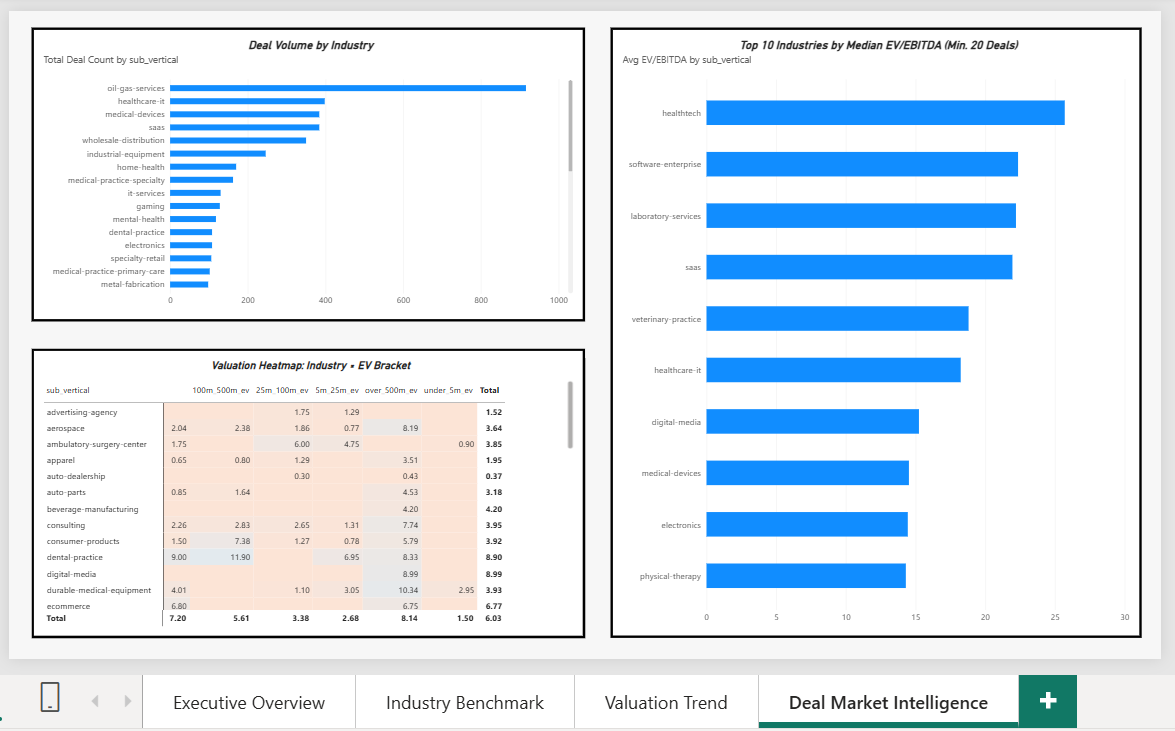

Layout of this report page (visuals, bound fields, positions):
{"tool":"powerbi","page":{"name":"Deal Market Intelligence","canvas":[1920,1080],"ordinal":3},"visuals":[{"type":"clusteredBarChart","title":"Deal Volume by Industry","fields":{"Category":["DimIndustry.sub_vertical"],"Y":["_Measures.Total Deal Count"]},"box":[37.5,27.5,922.5,490],"z":0},{"type":"pivotTable","title":"Valuation Heatmap: Industry × EV Bracket","fields":{"Columns":["DimEVBracket.ev_bracket"],"Rows":["DimIndustry.sub_vertical"],"Values":["_Measures.Selected Median Multiple"]},"box":[37.5,562.5,922.5,482.5],"z":1},{"type":"clusteredBarChart","title":"Top 10 Industries by Median EV/EBITDA (Min. 20 Deals)","fields":{"Category":["DimIndustry.sub_vertical"],"Y":["_Measures.Avg EV/EBITDA"]},"box":[1002.5,27.5,885,1017.5],"z":2}]}

Visuals, with their boxes in screenshot pixels (x1, y1, x2, y2):
"Deal Volume by Industry" clusteredBarChart: region(26, 23, 582, 318)
"Valuation Heatmap: Industry × EV Bracket" pivotTable: region(26, 346, 582, 637)
"Top 10 Industries by Median EV/EBITDA (Min. 20 Deals)" clusteredBarChart: region(608, 23, 1142, 637)
